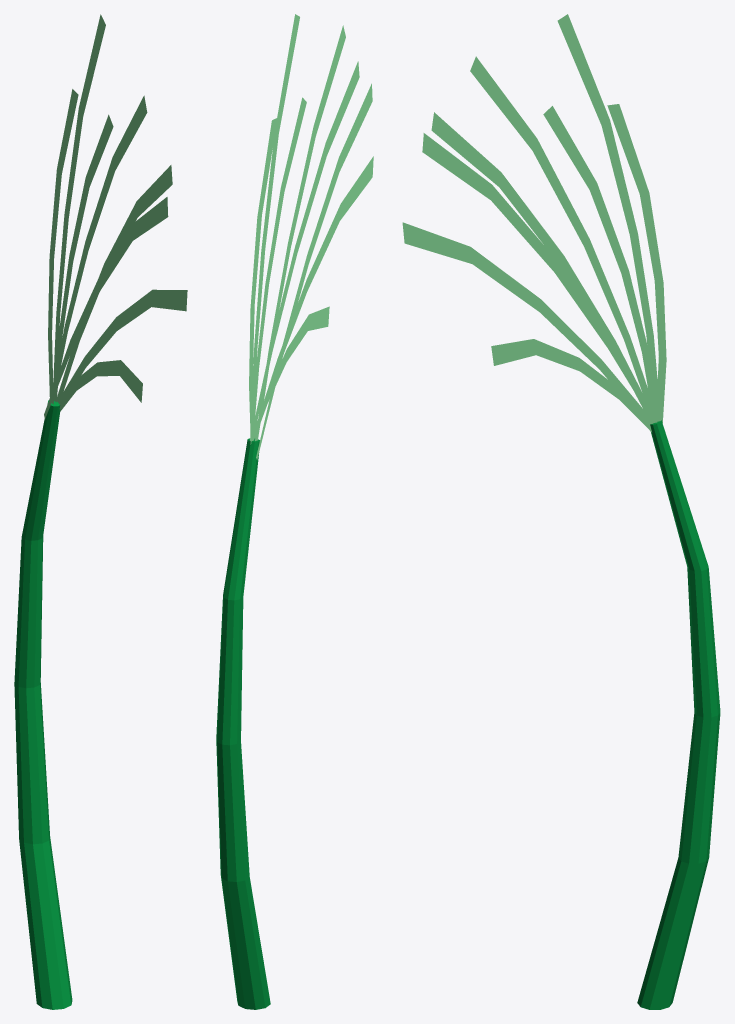
File: Flw3.fbx
The picture shows the model from 3 angles, left to right: view 1: azimuth 30°, elevation 25°; view 2: azimuth 150°, elevation 25°; view 3: azimuth 270°, elevation 25°; orthographic projection. The views are drawn at different scales.
Parts seen in each view (by area): view 1: Plane.004; view 2: Plane.004; view 3: Plane.004.
Part boxes in pixels (bbox=[...]): Plane.004: bbox=[14, 14, 187, 1009]; Plane.004: bbox=[216, 14, 373, 1009]; Plane.004: bbox=[402, 14, 720, 1009].
Bounding box in the file's own units: 4.92 × 159 × 46.41.
